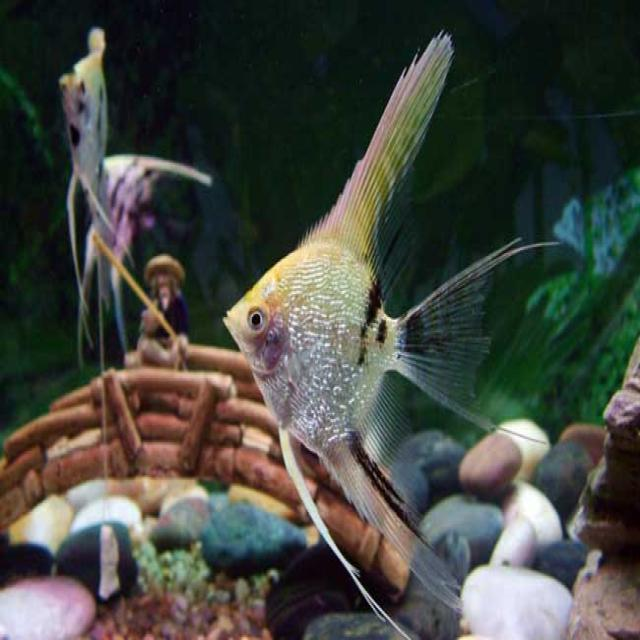AngelFish: (220, 29, 560, 611), (44, 29, 211, 352)
